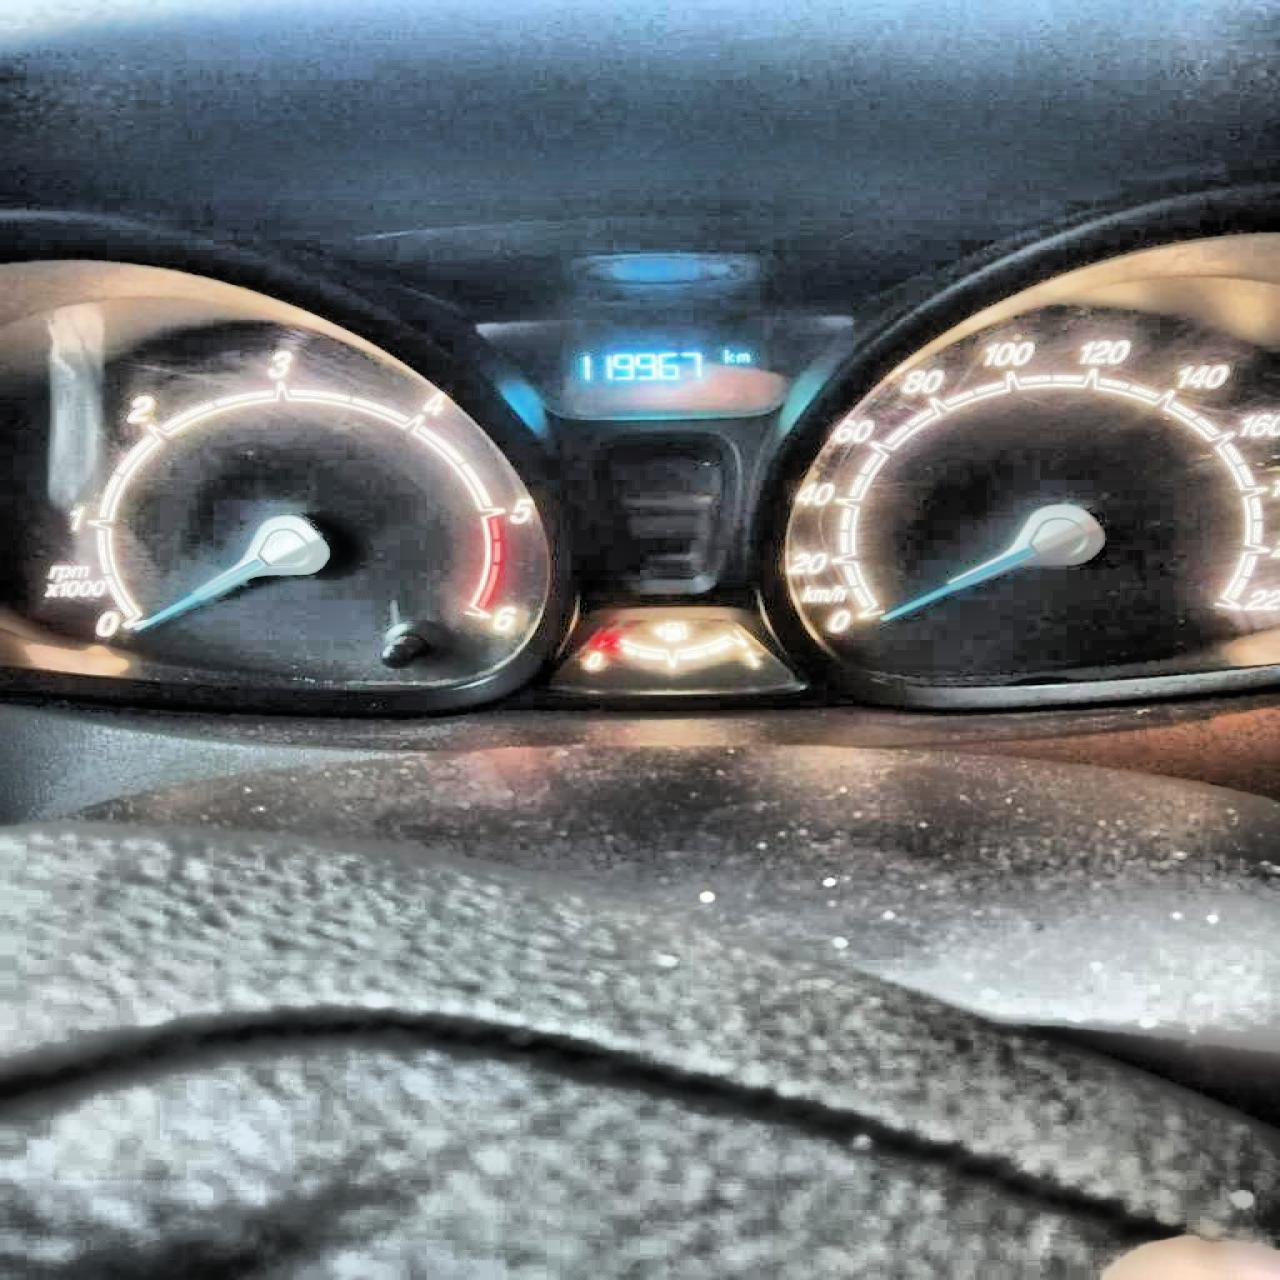1: (580, 350, 593, 384), (601, 348, 612, 382)
6: (655, 349, 679, 381)
7: (680, 347, 703, 377)
9: (633, 349, 655, 381), (612, 350, 633, 381)
X: (735, 349, 751, 362), (722, 346, 734, 363)
odometer: (557, 335, 767, 403)
